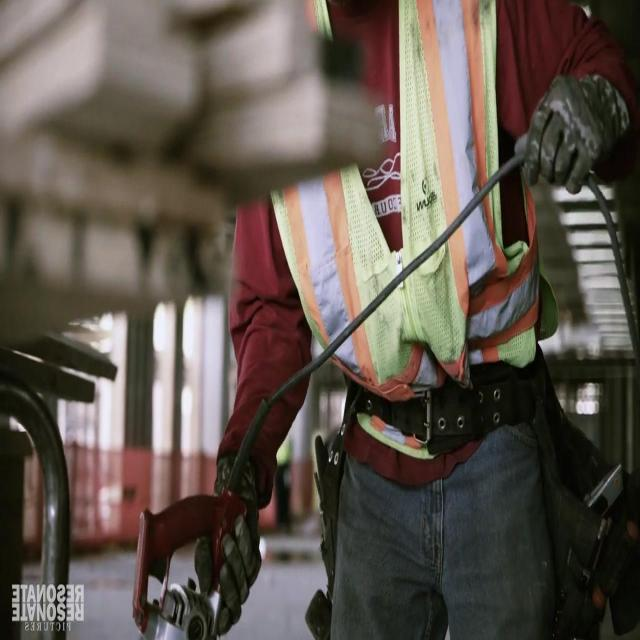Reflective-Jacket: (235, 13, 552, 415)
